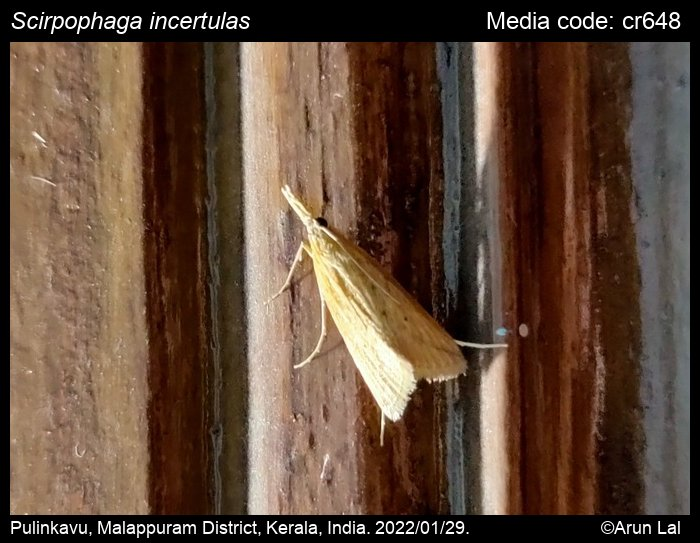Crambidae: (260, 188, 508, 428)
